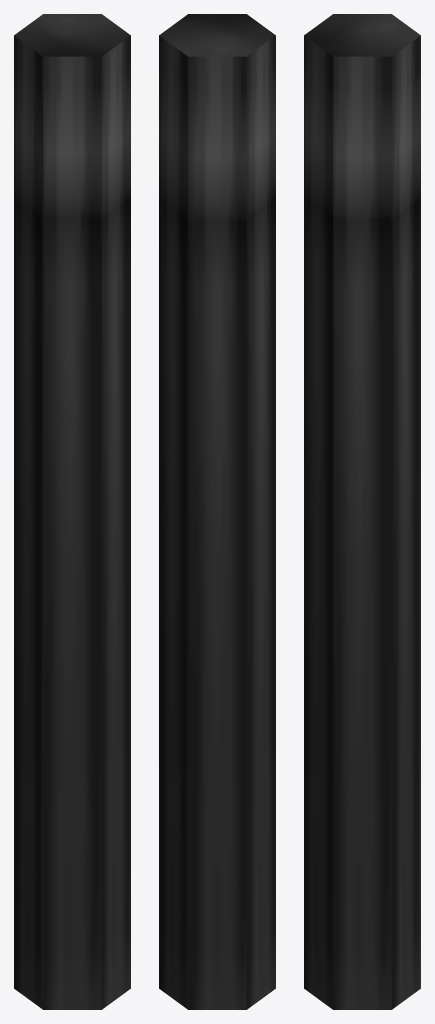
File: faust_base.obj
3 views of the same model, side by side, from view 1: azimuth 30°, elevation 25°; view 2: azimuth 210°, elevation 25°; view 3: azimuth 330°, elevation 25° (orthographic).
Parts seen in each view (by area): view 1: g0; view 2: g0; view 3: g0.
Part boxes in pixels (x1,y1,x2,y2): g0: (14, 14, 130, 1009); g0: (159, 14, 275, 1009); g0: (304, 14, 420, 1009).
Size of the model in its own units: 0.5626 by 5.85 by 0.6496.
Materials: 1 (1 with a texture image).
